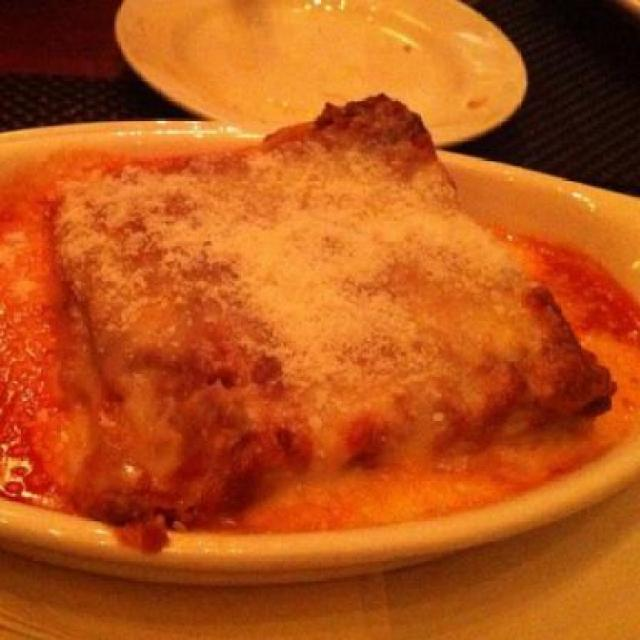Lasagna: (39, 100, 638, 552)
